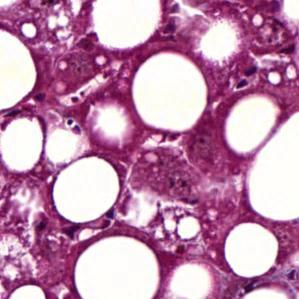steatosis: (132, 51, 210, 133), (50, 154, 119, 223)
